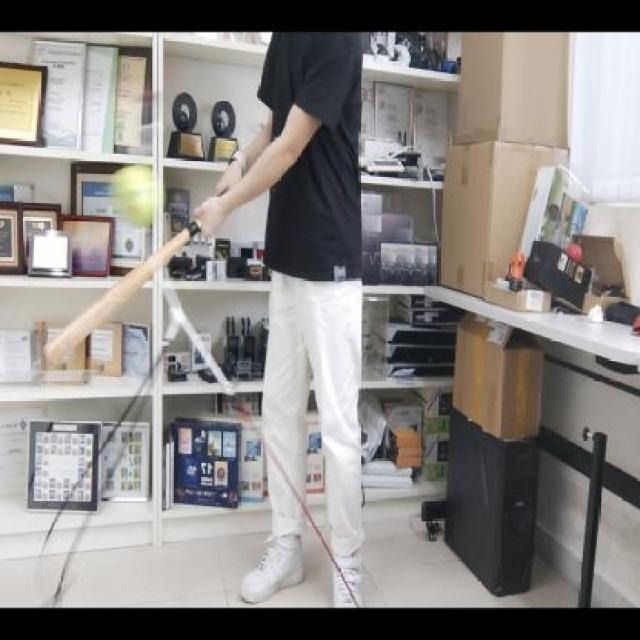baseball: (111, 160, 157, 228)
